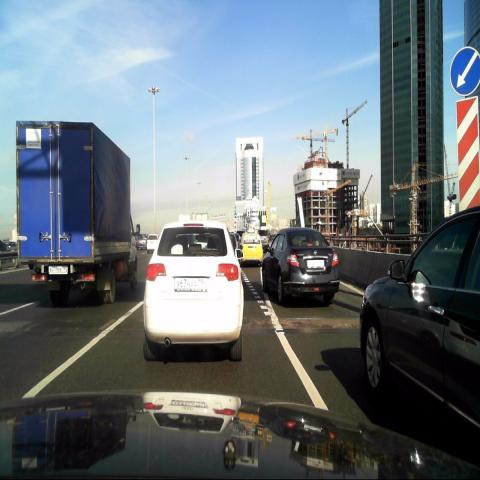4_2_2: (449, 43, 480, 98)
